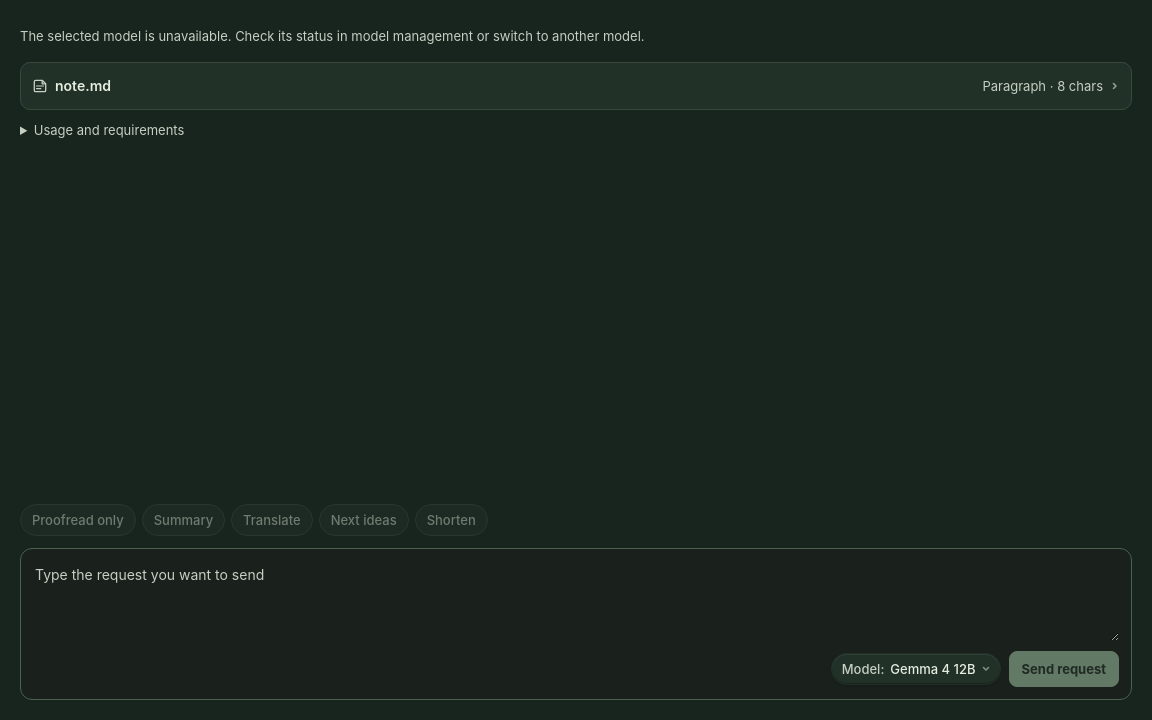
it: AppleAssistWindowApp render › rechecks the selected model when its downloaded pack becomes ready
expect the button "Send request" is disabled: met, box [1009, 651, 1119, 687]
In the text box: point(576, 601) [33, 561, 1119, 641], type "Try it"
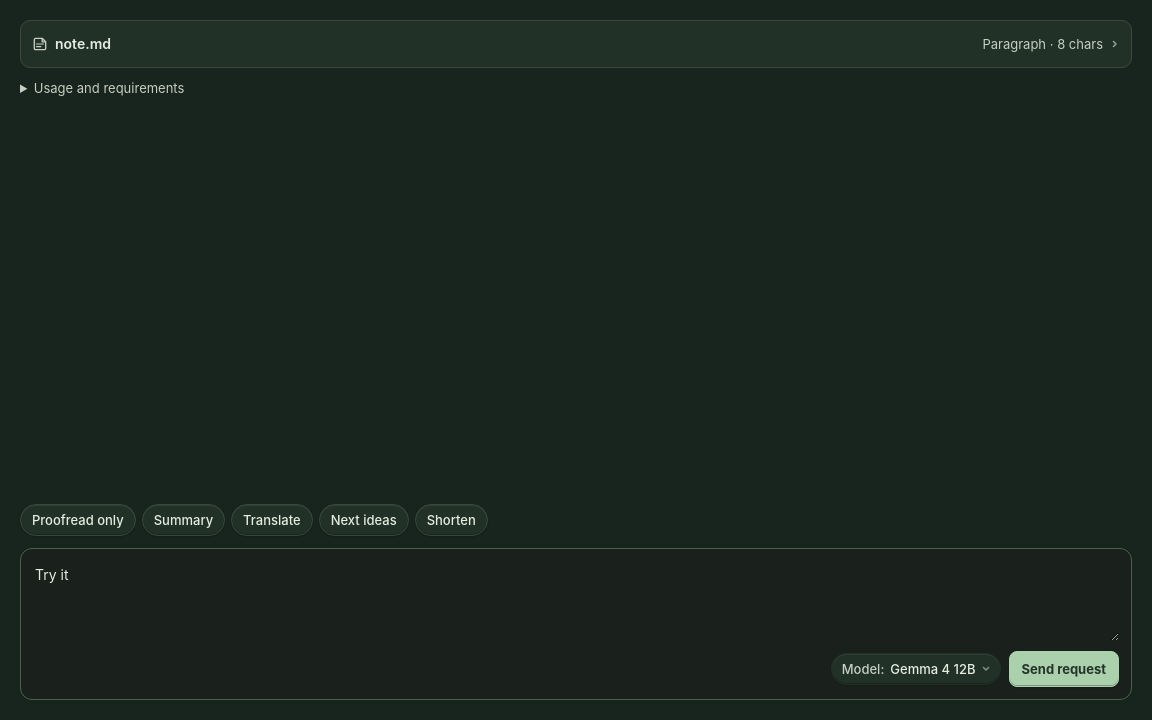
expect the button "Send request" is enabled: met, box [1009, 651, 1119, 687]
